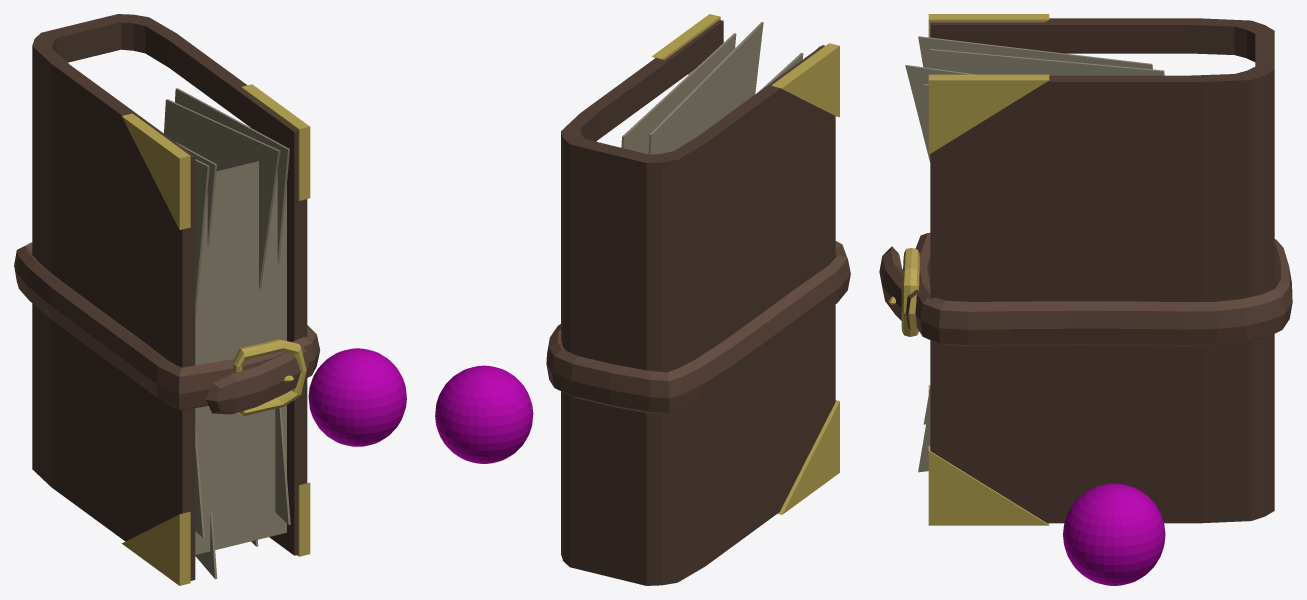
File: ball3.glb
The picture shows the model from 3 angles, left to right: view 1: azimuth 30°, elevation 25°; view 2: azimuth 150°, elevation 25°; view 3: azimuth 270°, elevation 25°; orthographic projection. The views are drawn at different scales.
Parts seen in each view (by area): view 1: Book3_Closed, Sphere; view 2: Book3_Closed, Sphere; view 3: Book3_Closed, Sphere.
Part boxes in pixels (box(x1,y1,x2,y2)): Book3_Closed: box(14, 14, 320, 585); Sphere: box(308, 348, 406, 446); Book3_Closed: box(546, 14, 850, 585); Sphere: box(435, 365, 533, 463); Book3_Closed: box(879, 14, 1292, 525); Sphere: box(1063, 483, 1165, 585).
Bounding box in the file's own units: 0.6275 × 0.8068 × 0.6705.
